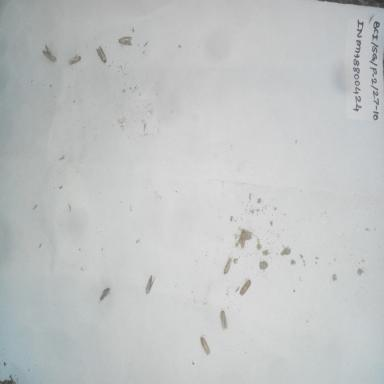pbw: (40, 40, 60, 71), (213, 305, 234, 334), (140, 272, 159, 300), (195, 333, 215, 359), (115, 31, 140, 49), (236, 227, 252, 253), (96, 286, 112, 305), (222, 252, 234, 276), (238, 277, 252, 297), (95, 44, 108, 65), (66, 52, 82, 67)
